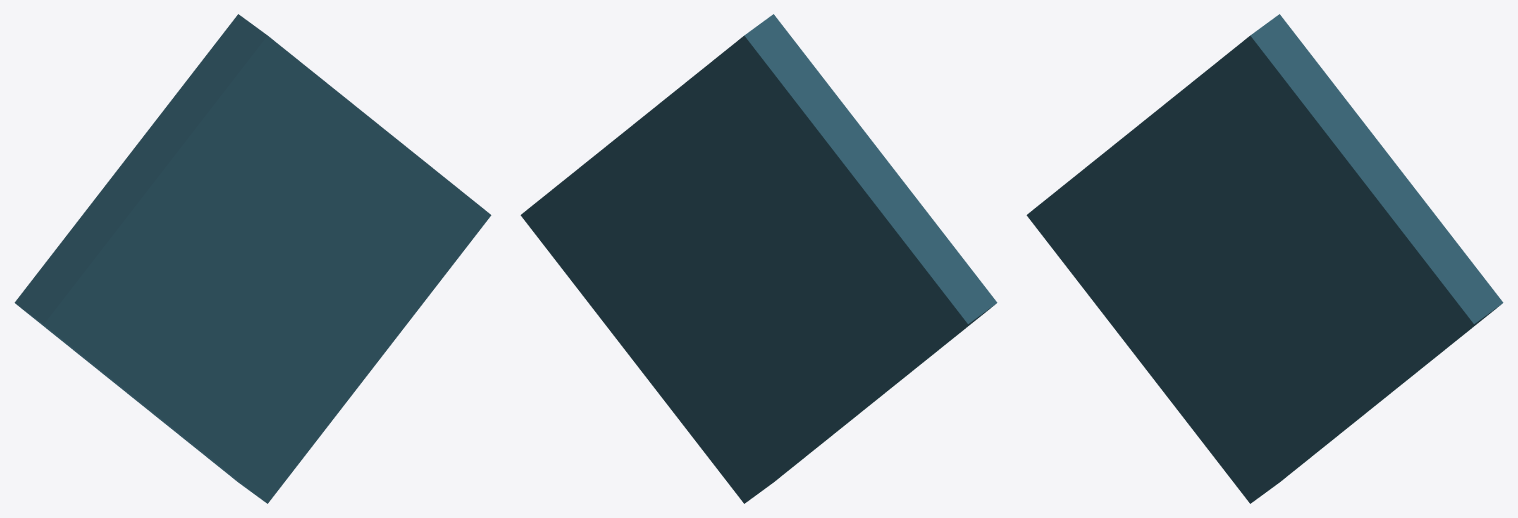
Rendered from City_TrafficSignal_WaitGlyph.glb.
3 renders of one model, left to right at view 1: azimuth 30°, elevation 25°; view 2: azimuth 150°, elevation 25°; view 3: azimuth 330°, elevation 25°, orthographic.
Visible parts, largest first — view 1: City_TrafficSignal_WaitGlyph; view 2: City_TrafficSignal_WaitGlyph; view 3: City_TrafficSignal_WaitGlyph.
Boxes of the visible parts, <box> form: City_TrafficSignal_WaitGlyph: <box>14,14,491,503</box>; City_TrafficSignal_WaitGlyph: <box>520,14,997,503</box>; City_TrafficSignal_WaitGlyph: <box>1026,14,1503,503</box>.
Bounding box in the file's own units: 0.396 × 0.396 × 0.045.
